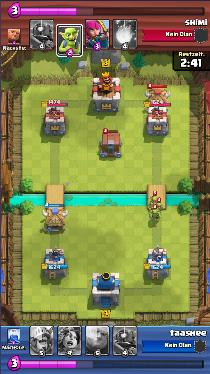ally_goblin_cage: (99, 131, 122, 157)
ally_goblin_hut: (42, 207, 68, 233)
enemy_goblin_hut: (144, 88, 171, 107)
enemy_spear_goblin: (148, 208, 160, 221), (149, 195, 159, 205), (155, 202, 163, 212)
